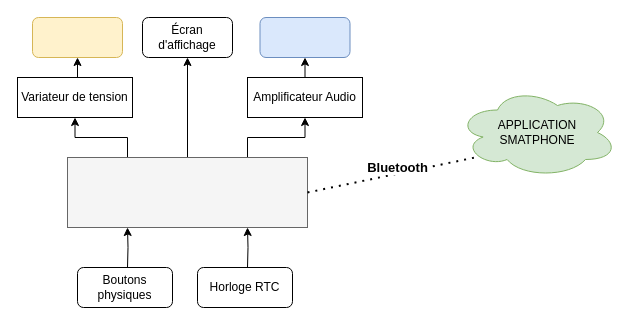
Some shapes in this 635 by 325 pixel diagram are drawn without their labels. The shapes that lost their labels are listed below. From the top down, each one's centre as x and y in pixels, then its label:
At [77,37]: "Éclairage".
At [304,37]: "Speaker".
At [187,192]: "Contrôleur - ESP32".
